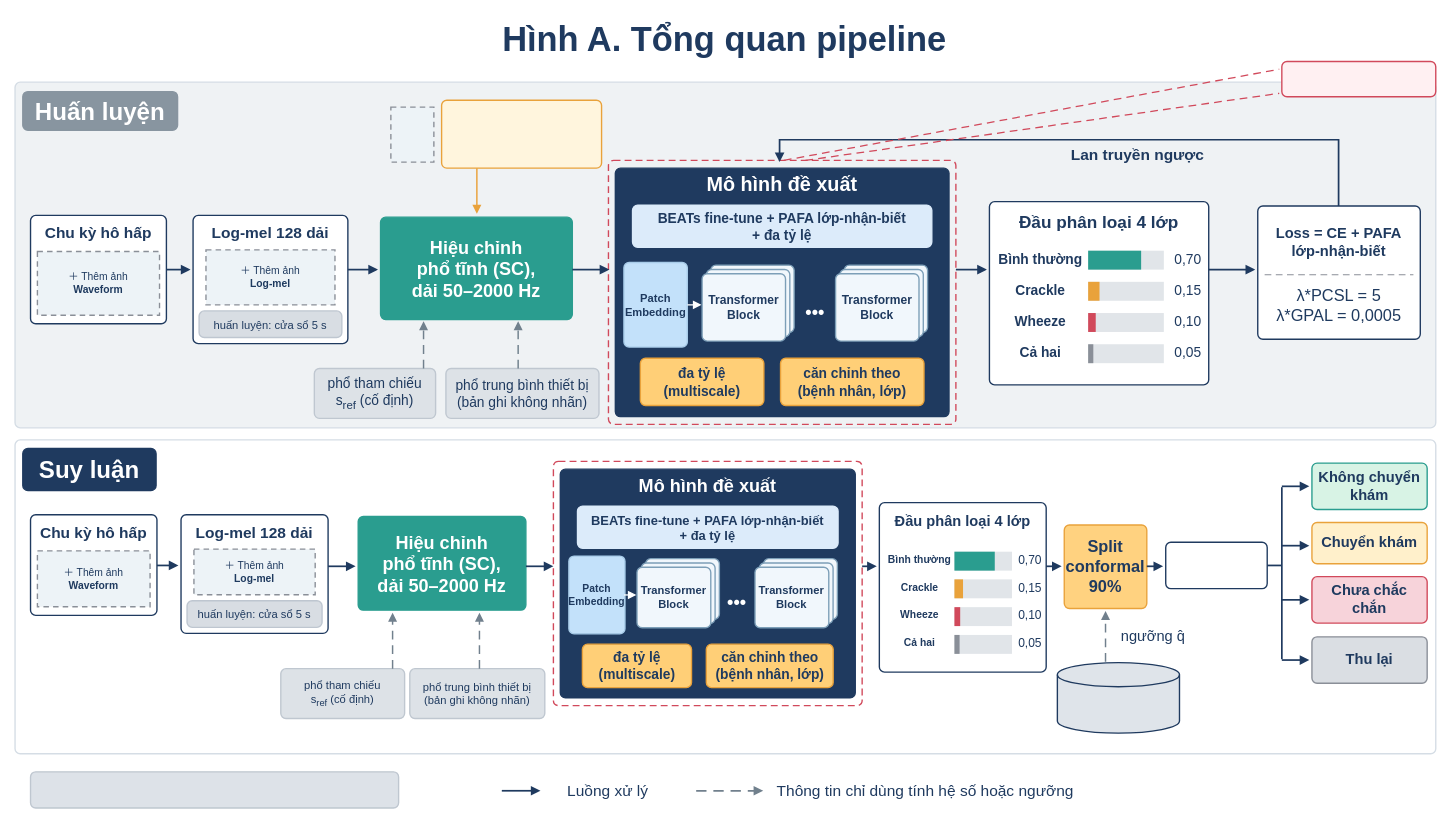
The diagram is 1452 pixels wide and 823 high, and some of its shapes have lost their labels. Here are the shapes that lost their labels. From the top down, the centre of each, then its label:
At [1358,78]: "Phóng to: Hình B".
At [412,134]: "＋ Thêm ảnh Xúc xắc".
At [521,133]: "gain ngẫu nhiên trơn theo tần số, SD 6 dB (chỉ khi huấn luyện)".
At [1216,565]: "Tập dự đoán".
At [1118,697]: "nhóm bệnh nhân hiệu chuẩn".
At [214,789]: "Đề xuất, đang đánh giá (5 fold × 5 seed, source-CV)".
